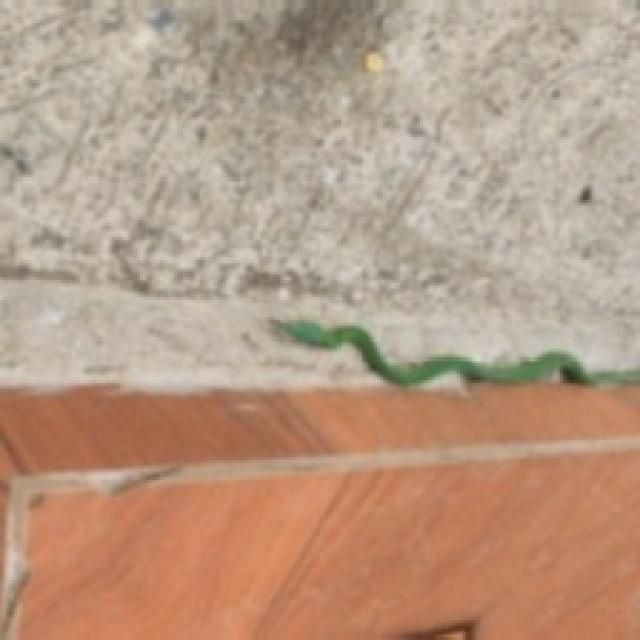red-tailed green ratsnake: (274, 320, 594, 383)
